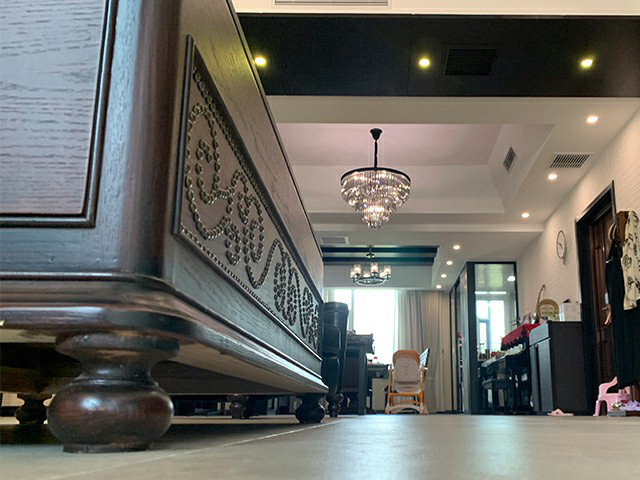cabinet: (529, 319, 592, 417)
curtain: (414, 289, 454, 414)
slippers: (545, 408, 575, 417)
stool: (592, 375, 634, 417), (481, 377, 517, 416)
table: (1, 1, 328, 453)
